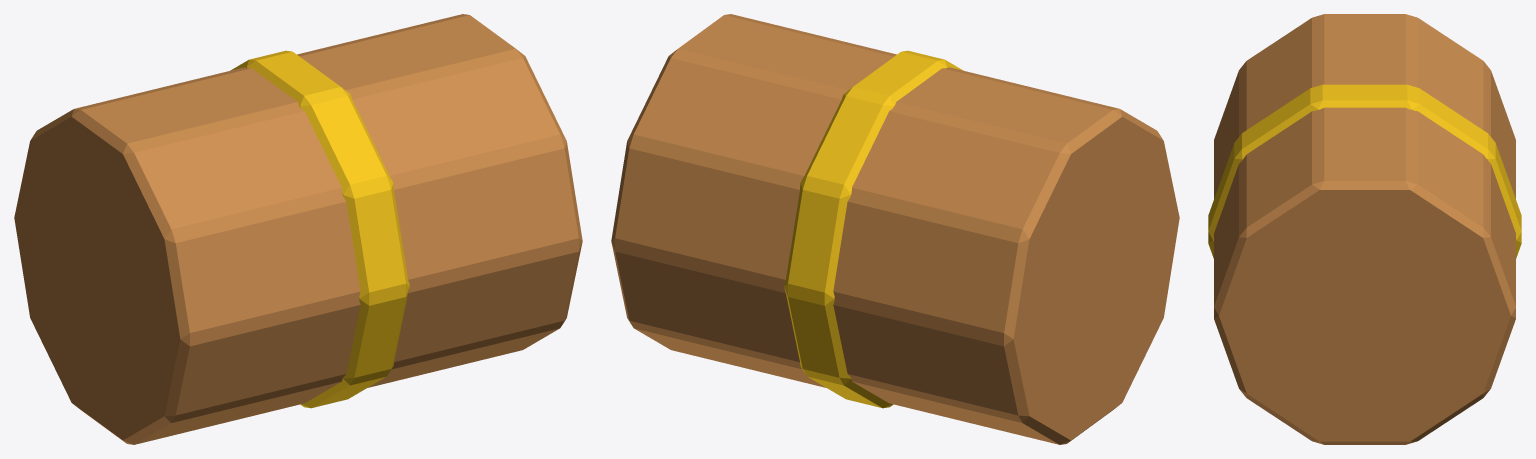
Rendered from chest_lid.glb.
3 views of the same model, side by side, from view 1: azimuth 30°, elevation 25°; view 2: azimuth 150°, elevation 25°; view 3: azimuth 270°, elevation 25° (orthographic). The views are drawn at different scales.
Visible parts, largest first — view 1: chest_lid; view 2: chest_lid; view 3: chest_lid.
Part boxes in pixels (x1,y1,x2,y2): chest_lid: (14,14,582,444); chest_lid: (611,14,1179,444); chest_lid: (1208,14,1521,444).
Bounding box in the file's own units: 0.36 × 0.2663 × 0.2763.
